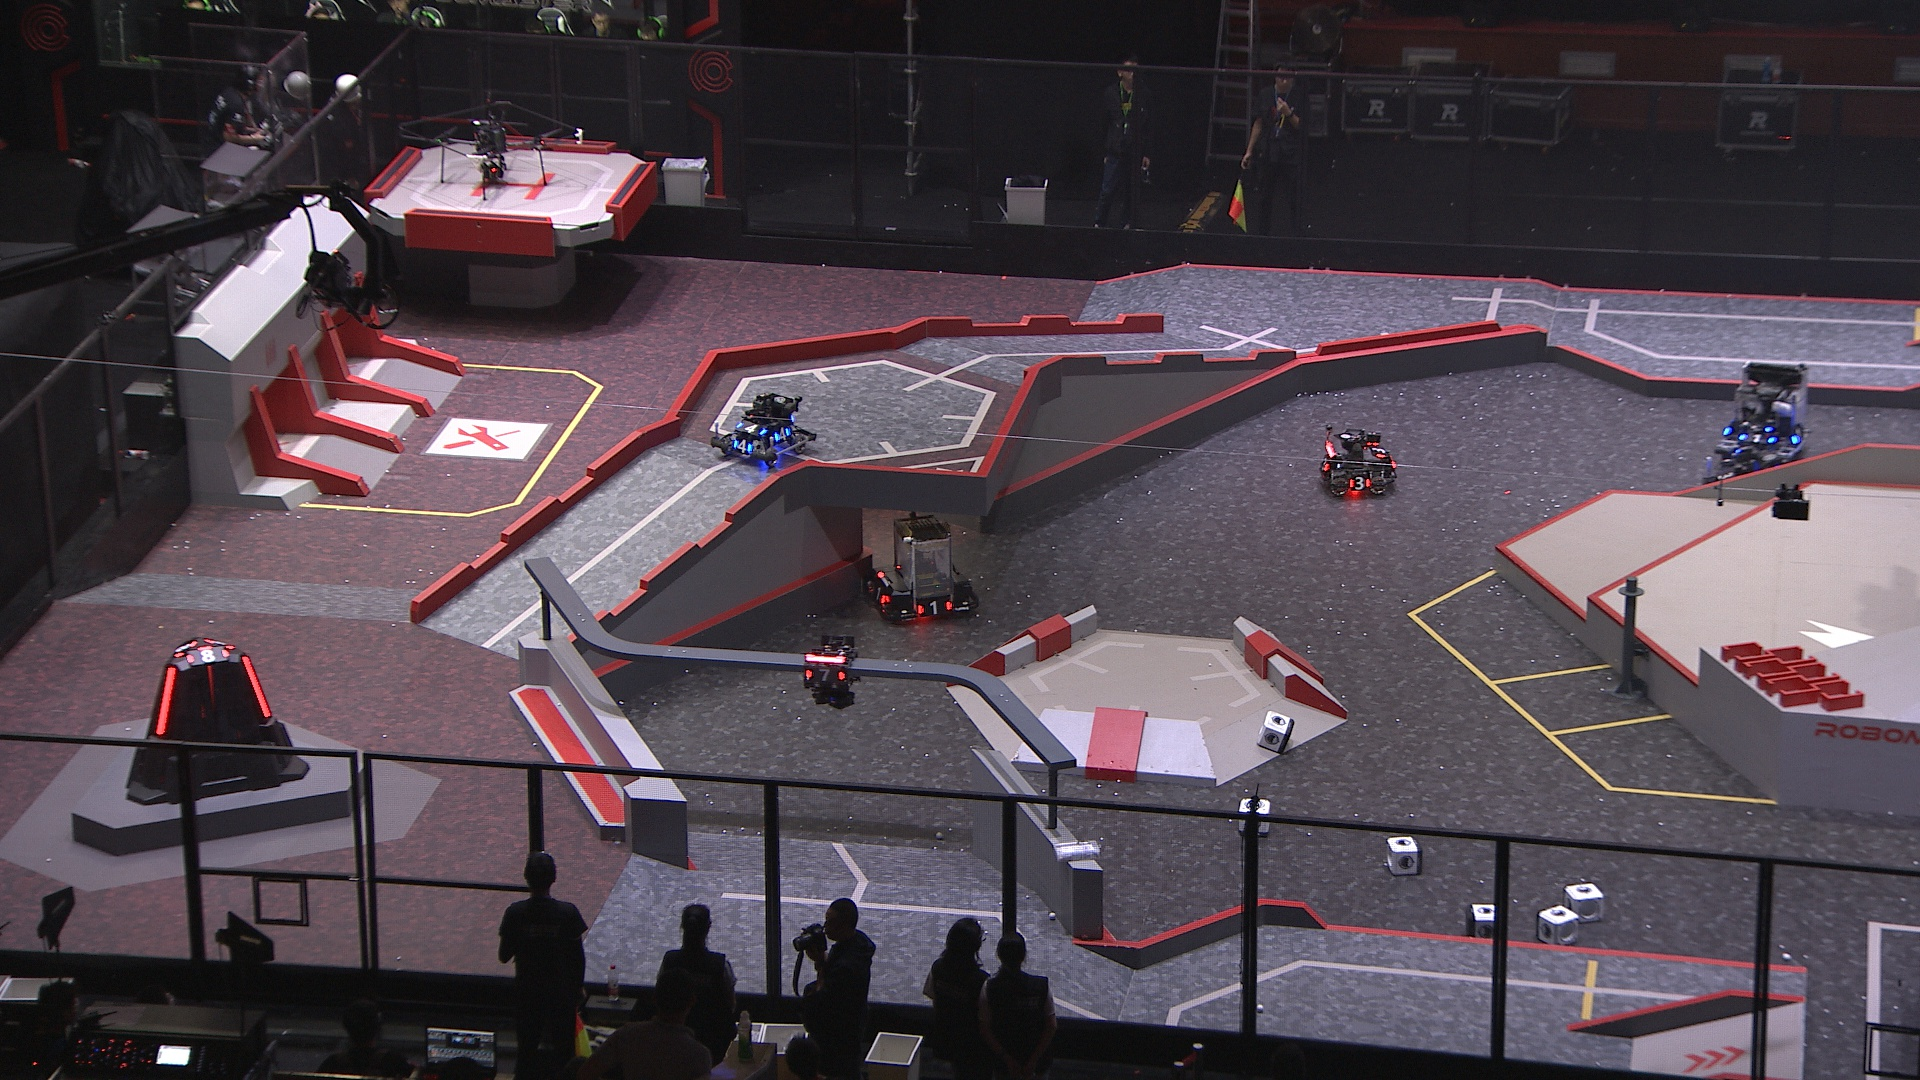armor: (239, 651, 276, 723), (150, 665, 177, 740), (913, 597, 953, 618), (803, 665, 847, 684), (186, 646, 229, 665), (1735, 431, 1779, 447), (737, 418, 766, 436), (870, 580, 889, 608), (1787, 422, 1807, 447), (1348, 475, 1371, 495), (204, 636, 233, 651), (770, 425, 793, 443), (732, 438, 756, 455), (1367, 440, 1386, 462), (171, 641, 193, 659), (1317, 452, 1332, 475), (1716, 467, 1735, 483)
base: (125, 632, 310, 808)
car: (862, 512, 984, 626), (1718, 360, 1816, 462), (703, 392, 820, 467), (1313, 419, 1400, 500), (1700, 444, 1775, 508)
watcher: (798, 633, 862, 711)
